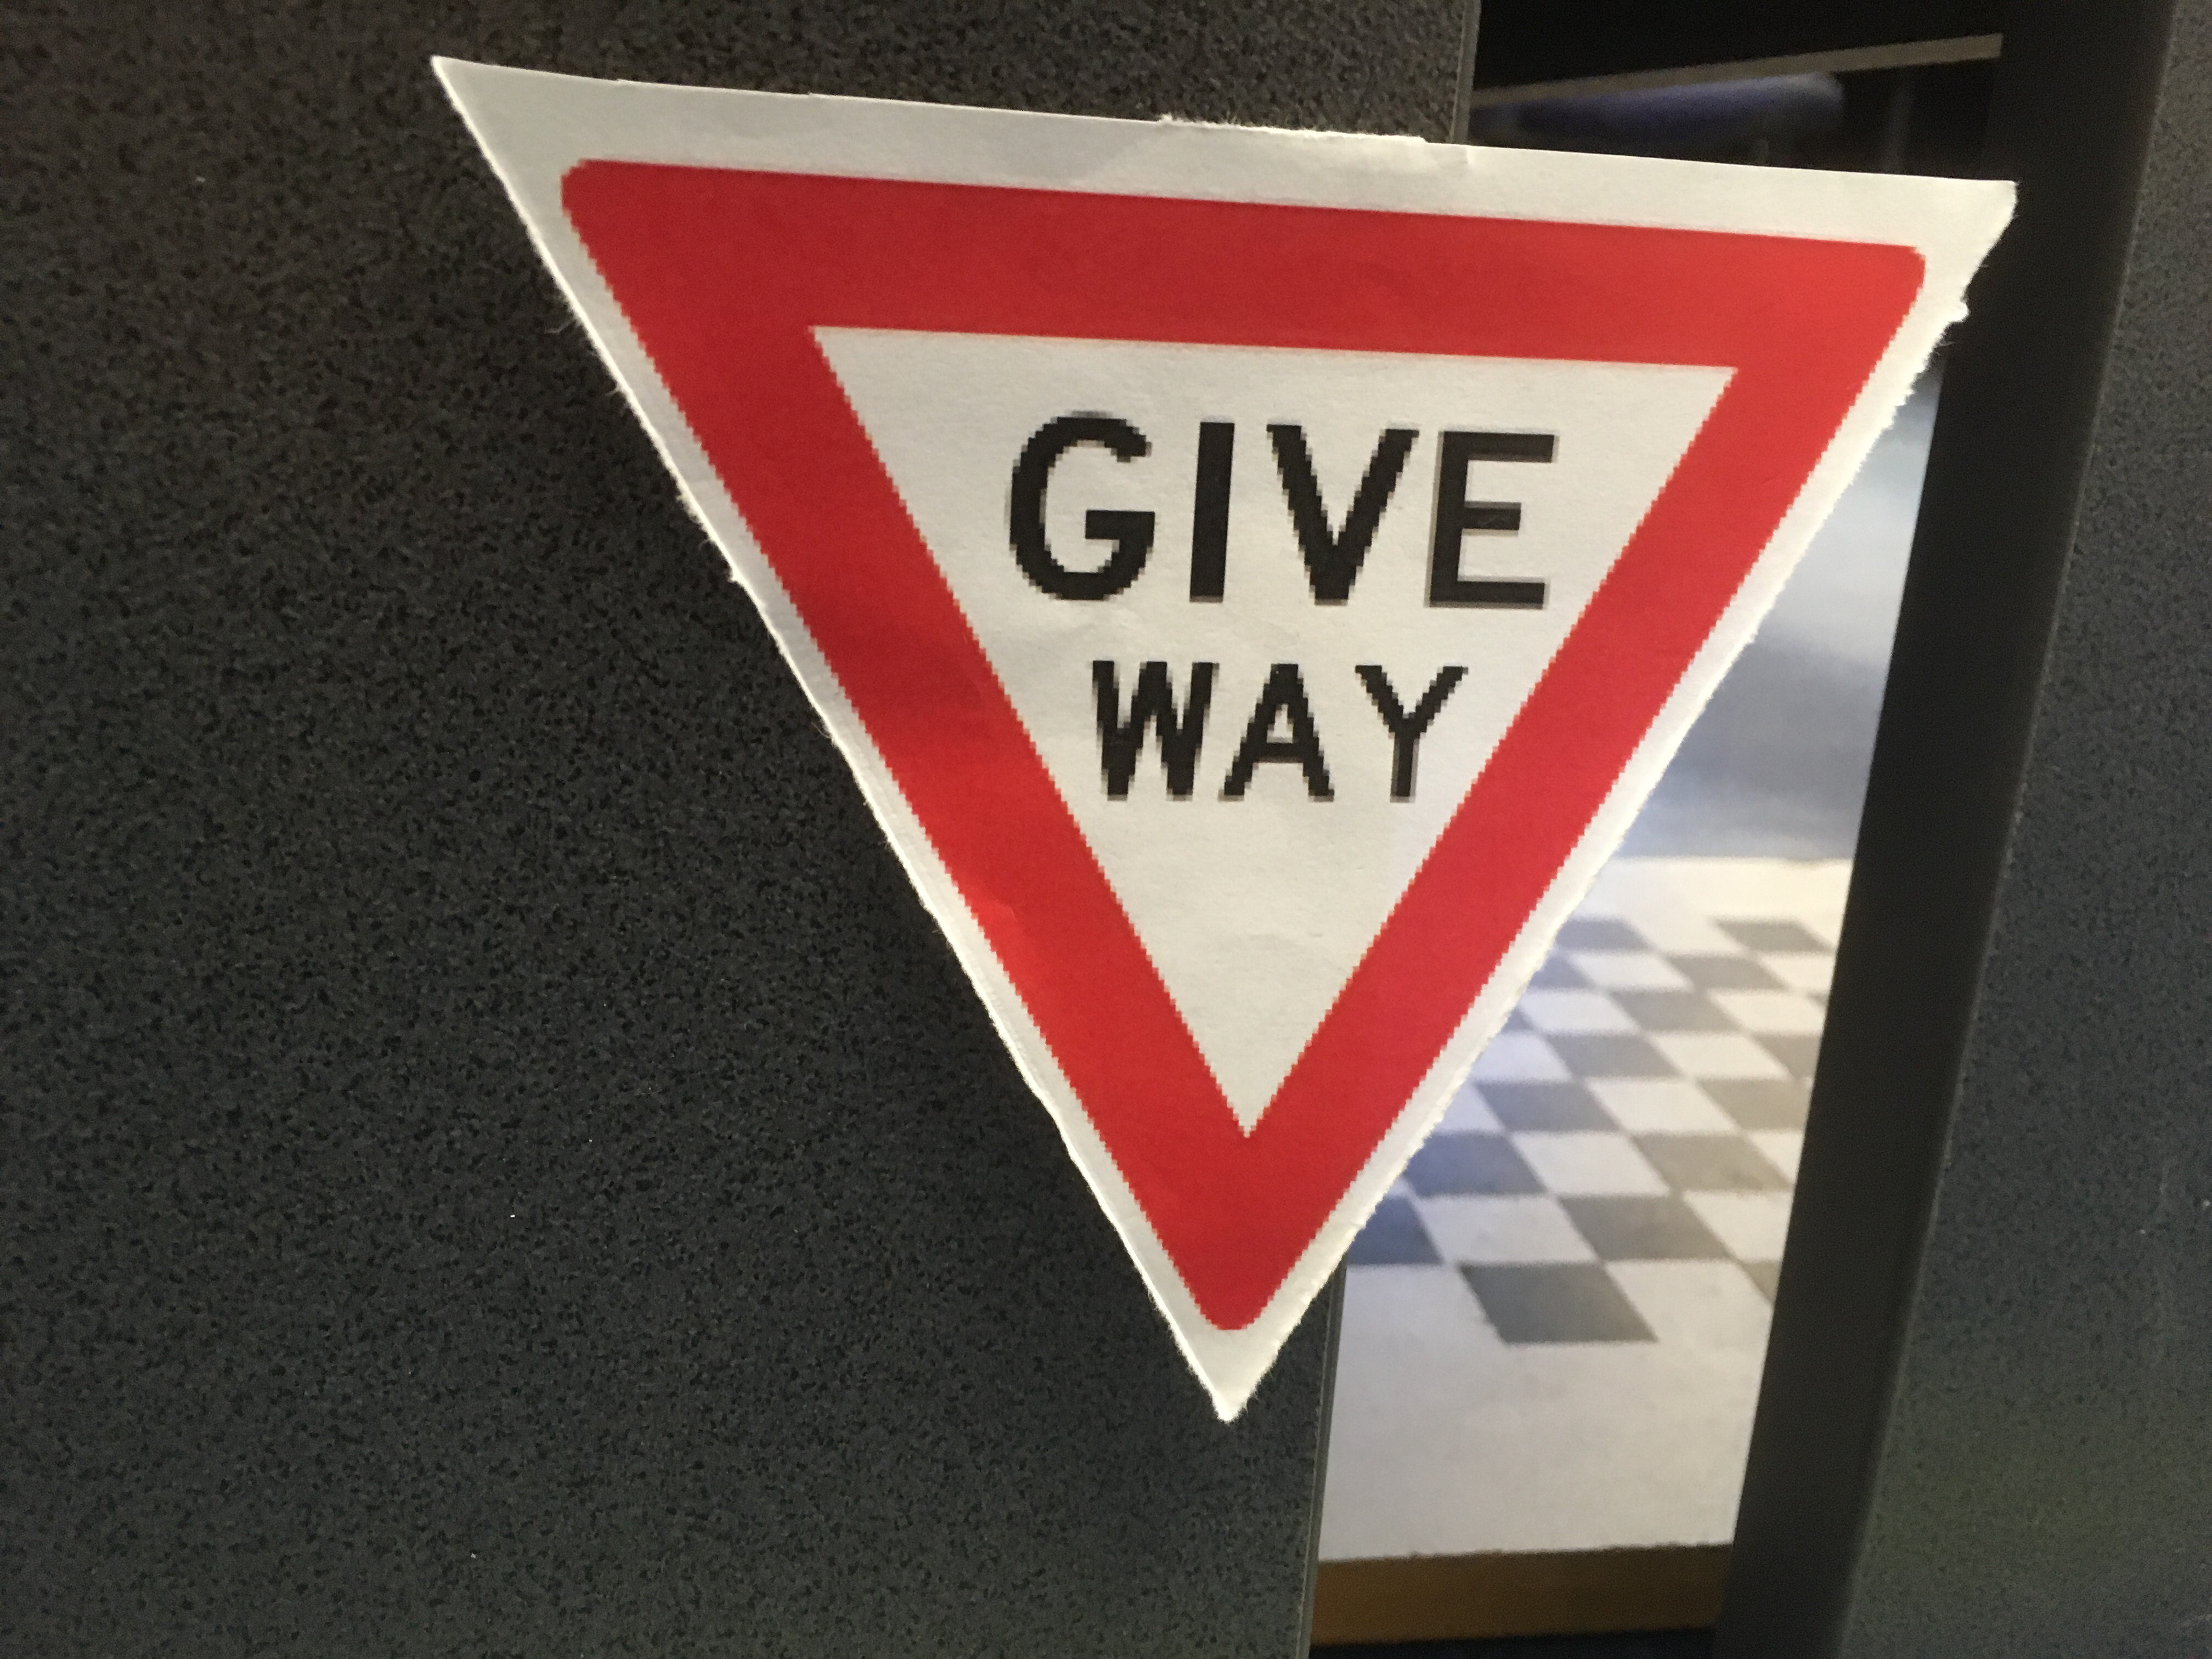giveway: (570, 162, 1944, 1358), (563, 157, 1264, 1328), (543, 173, 1902, 678), (1264, 173, 1778, 1331), (747, 558, 1684, 1077)
